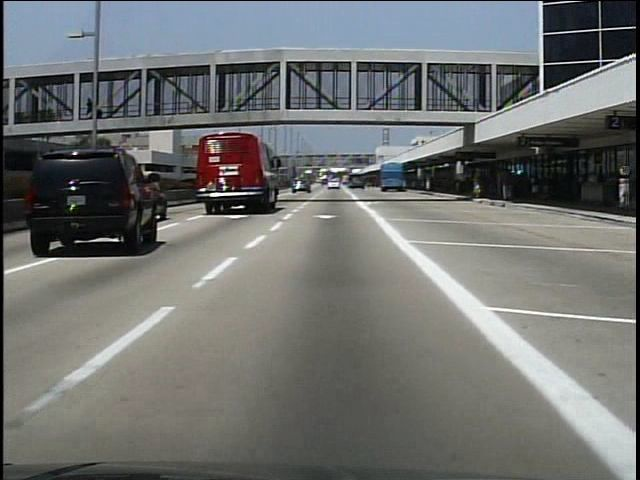person: (527, 170, 545, 204)
